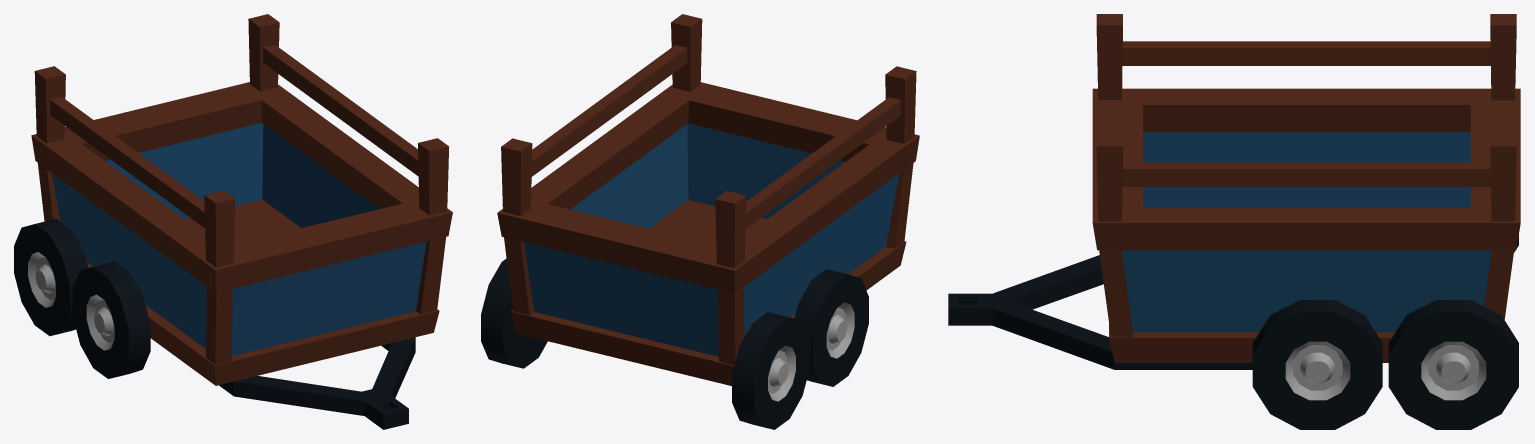
File: Trailer_1_2.fbx
3 renders of one model, left to right at view 1: azimuth 30°, elevation 25°; view 2: azimuth 150°, elevation 25°; view 3: azimuth 270°, elevation 25°, orthographic. The views are drawn at different scales.
Parts seen in each view (by area): view 1: Trailer_1_2; view 2: Trailer_1_2; view 3: Trailer_1_2.
Part boxes in pixels (<box>): Trailer_1_2: <box>14,14,452,429</box>; Trailer_1_2: <box>481,14,919,429</box>; Trailer_1_2: <box>948,14,1520,429</box>.
Size of the model in its own units: 61.72 by 50.48 by 95.94.
